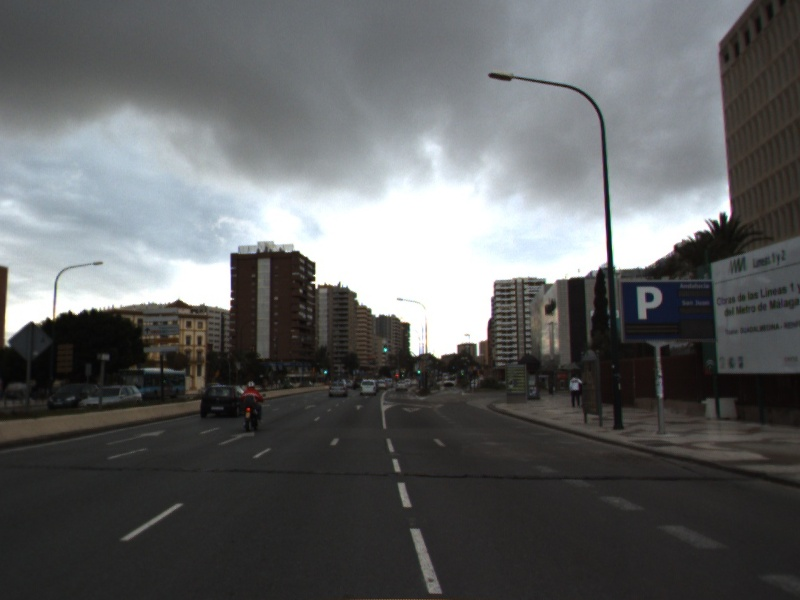STRAIGHT: (104, 428, 168, 447), (216, 430, 257, 447), (352, 403, 366, 412)
